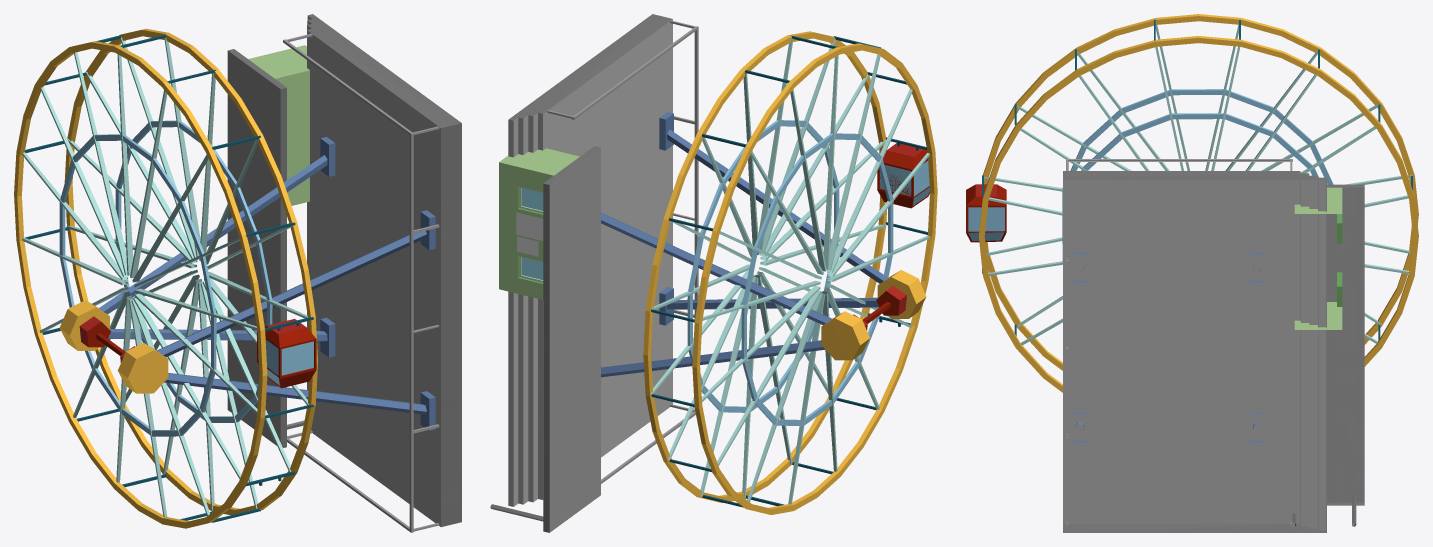
Rendered from A Jhoola.fbx.
The picture shows the model from 3 angles, left to right: view 1: azimuth 30°, elevation 25°; view 2: azimuth 150°, elevation 25°; view 3: azimuth 270°, elevation 25°; orthographic projection. The views are drawn at different scales.
Parts seen in each view (by area): view 1: __2548, Object001, Object002; view 2: __2548, Object001, Object002; view 3: __2548, Object001, Object002.
Boxes of the visible parts, x1,y1,x2,y2 form: __2548: (59, 14, 461, 532); Object001: (14, 28, 317, 528); Object002: (257, 319, 316, 388); __2548: (490, 14, 926, 532); Object001: (643, 31, 937, 514); Object002: (877, 141, 929, 208); __2548: (1063, 159, 1364, 532); Object001: (979, 14, 1418, 392); Object002: (966, 184, 1006, 242).
Bounding box in the file's own units: 12446 × 17869 × 17777.
